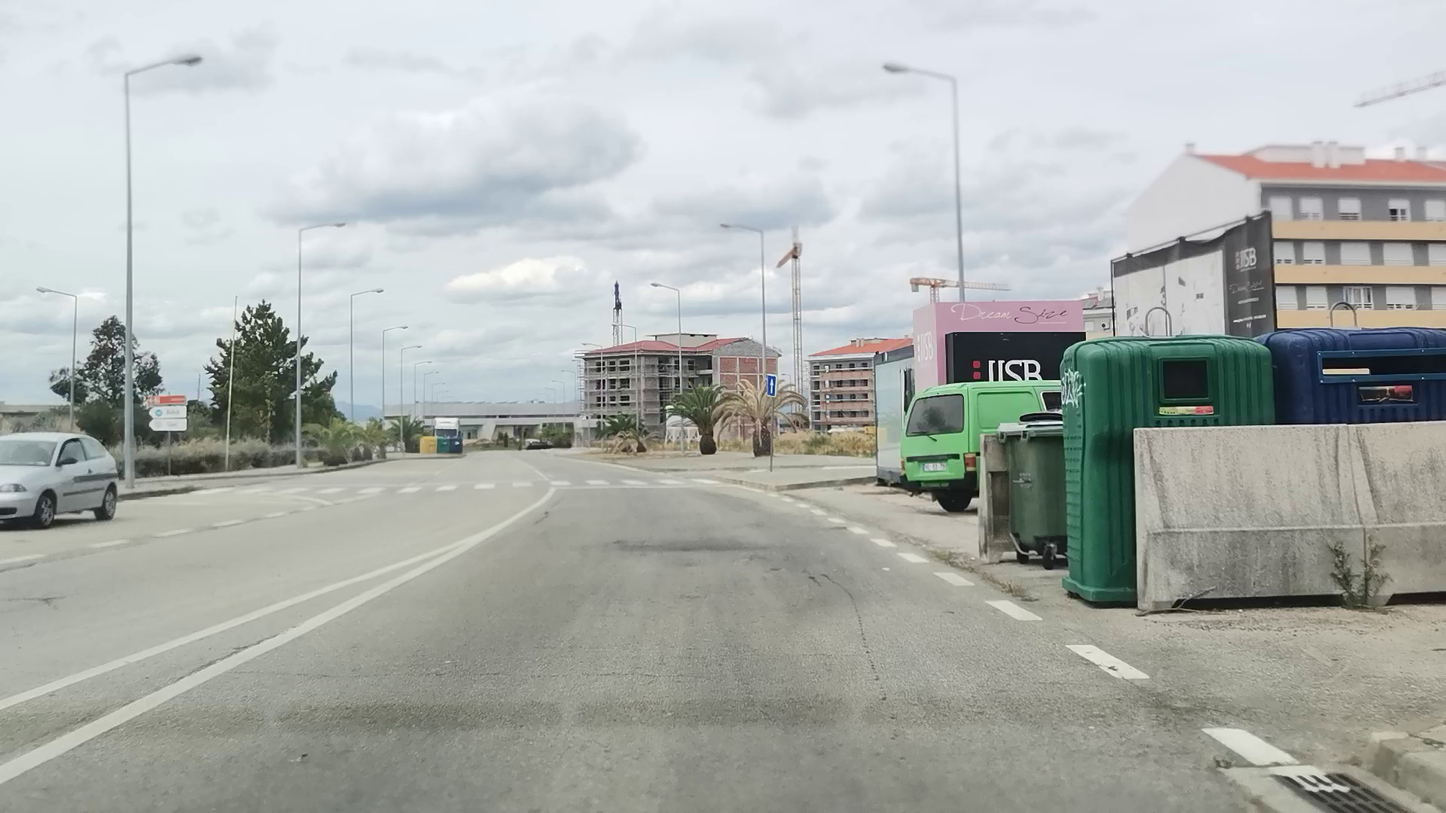Stairs: (207, 472, 727, 493)
